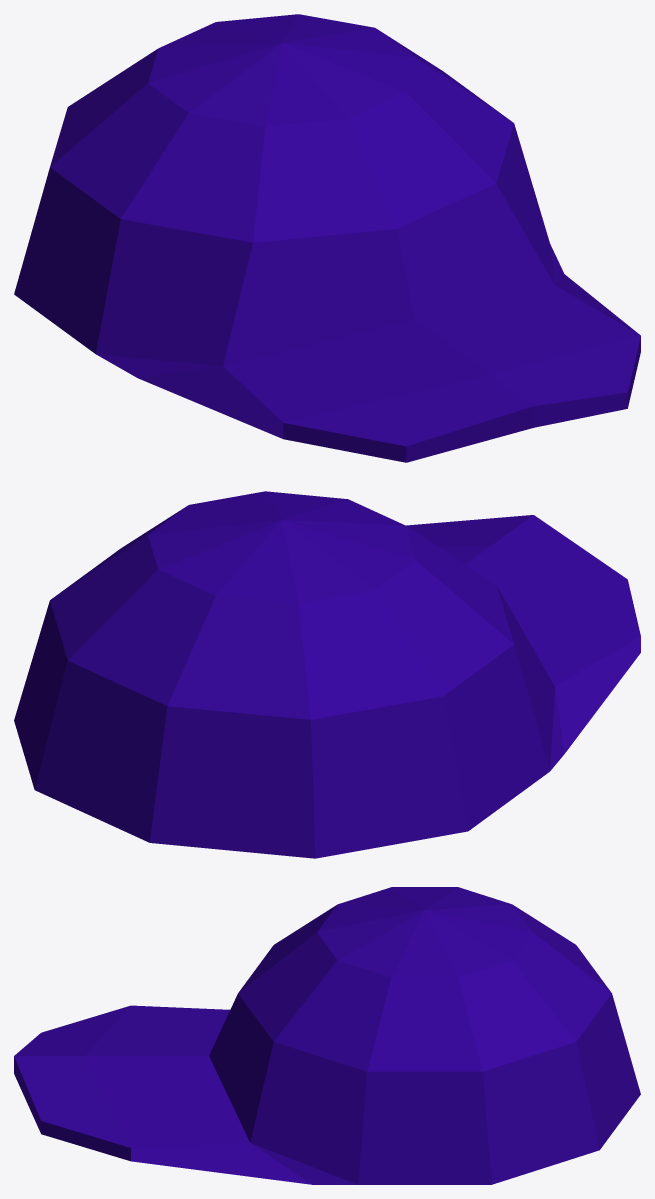
The model's file is hat3.fbx.
The picture shows the model from 3 angles, top to bottom: view 1: azimuth 30°, elevation 25°; view 2: azimuth 150°, elevation 25°; view 3: azimuth 270°, elevation 25°; orthographic projection. The views are drawn at different scales.
Visible parts, largest first — view 1: Sphere; view 2: Sphere; view 3: Sphere.
Part boxes in pixels (x1,y1,x2,y2): Sphere: [14, 14, 640, 462]; Sphere: [14, 491, 640, 858]; Sphere: [14, 887, 640, 1184].
Bounding box in the file's own units: 177 × 86.33 × 258.
